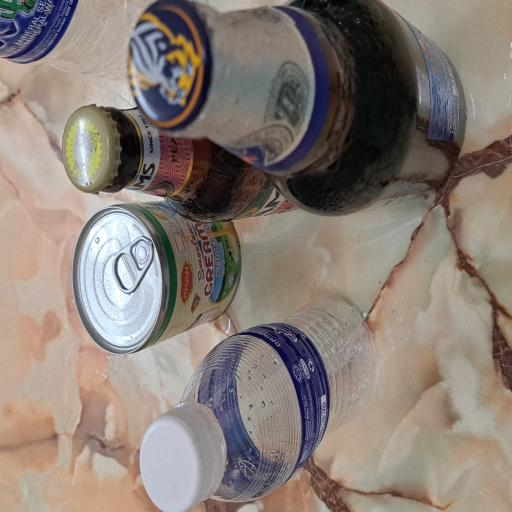can: (118, 96, 233, 320)
glass bottle: (224, 167, 384, 512), (218, 82, 304, 392)
plastic bottle: (0, 186, 160, 501), (330, 0, 384, 169)
plastic bottle cap: (2, 187, 84, 299)
pop tab: (164, 150, 208, 208)
